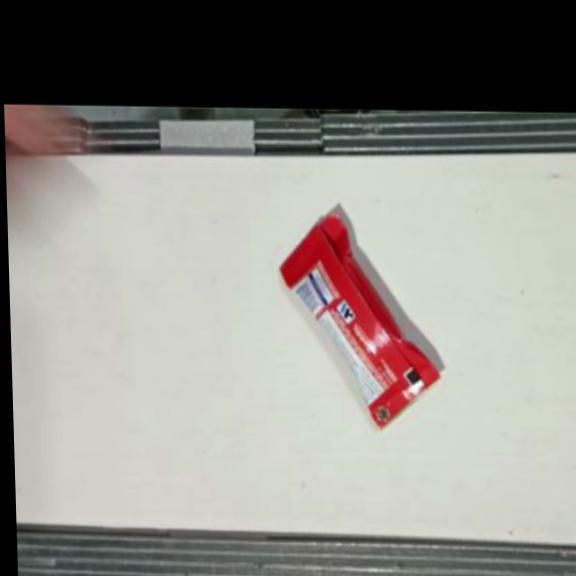Plastik: (277, 211, 441, 429)
